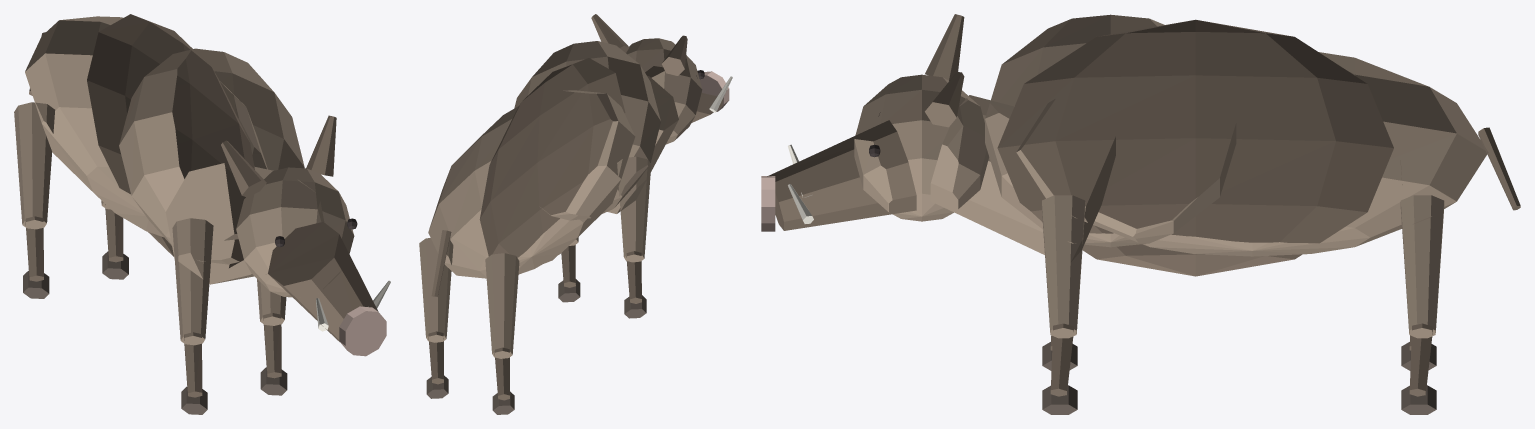
File: boar.glb
The picture shows the model from 3 angles, left to right: view 1: azimuth 30°, elevation 25°; view 2: azimuth 150°, elevation 25°; view 3: azimuth 270°, elevation 25°; orthographic projection. The views are drawn at different scales.
Visible parts, largest first — view 1: Body.Mane, Body.Shoulder, Body, Head.Skull, Head.Face, Head.Neck, Leg.BR, Leg.FR, Head.Snout, Head.Ear, Head.Ear#2, Leg.FR.Shin (+8 smaller); view 2: Body.Mane, Body, Body.Shoulder, Head.Skull, Leg.BR, Leg.FR, Leg.BL, Head.Neck, Head.Ear, Leg.FR.Shin, Leg.BL.Shin, Leg.BR.Shin (+9 smaller); view 3: Body.Mane, Body, Head.Skull, Body.Shoulder, Head.Face, Head.Neck, Leg.BL, Leg.FL, Head.Ear, Head.Ear#2, Leg.BL.Shin, Leg.FL.Shin (+4 smaller).
Boxes of the visible parts, <box> form: Body.Mane: <box>87,14,254,267</box>; Body.Shoulder: <box>119,48,304,264</box>; Body: <box>25,16,267,240</box>; Head.Skull: <box>236,167,354,297</box>; Head.Face: <box>268,222,378,341</box>; Head.Neck: <box>165,163,324,284</box>; Leg.BR: <box>14,102,55,229</box>; Leg.FR: <box>172,218,213,345</box>; Head.Snout: <box>339,306,386,356</box>; Head.Ear: <box>221,140,266,197</box>; Head.Ear#2: <box>306,115,336,176</box>; Leg.FR.Shin: <box>184,332,202,397</box>; Body.Mane: <box>479,58,625,263</box>; Body: <box>428,90,635,278</box>; Body.Shoulder: <box>514,41,660,220</box>; Head.Skull: <box>626,38,702,144</box>; Leg.BR: <box>485,253,519,358</box>; Leg.FR: <box>617,156,651,262</box>; Leg.BL: <box>419,238,453,342</box>; Head.Neck: <box>607,76,678,213</box>; Head.Ear: <box>661,35,687,75</box>; Leg.FR.Shin: <box>626,251,641,303</box>; Leg.BL.Shin: <box>428,331,443,384</box>; Leg.BR.Shin: <box>494,347,509,400</box>; Body.Mane: <box>997,19,1393,276</box>; Body: <box>1016,52,1488,256</box>; Head.Skull: <box>854,74,989,221</box>; Body.Shoulder: <box>985,14,1236,247</box>; Head.Face: <box>767,120,916,230</box>; Head.Neck: <box>930,95,1115,261</box>; Leg.BL: <box>1400,195,1444,338</box>; Leg.FL: <box>1041,195,1085,338</box>; Head.Ear: <box>925,14,964,80</box>; Head.Ear#2: <box>925,72,964,127</box>; Leg.BL.Shin: <box>1409,323,1432,396</box>; Leg.FL.Shin: <box>1050,323,1073,396</box>.
Size of the model in its own units: 0.4 by 0.86 by 1.61.
